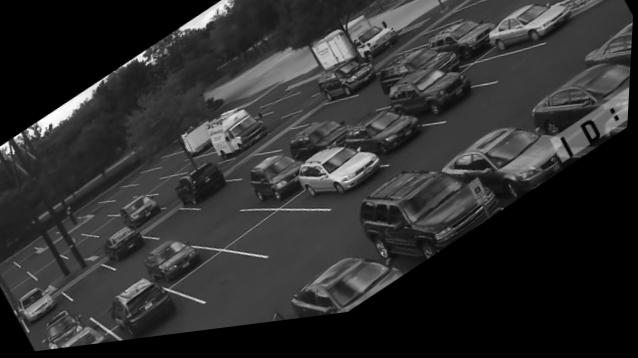empty: (238, 214, 333, 260), (175, 258, 257, 302), (463, 62, 544, 98), (194, 214, 261, 251), (63, 264, 121, 305), (300, 106, 355, 132), (93, 283, 134, 317), (259, 132, 310, 159), (149, 215, 199, 240), (434, 17, 480, 41), (229, 156, 272, 181), (458, 0, 502, 23), (400, 39, 443, 62), (32, 259, 73, 283), (64, 237, 105, 260), (7, 277, 41, 303), (253, 102, 297, 122), (351, 104, 391, 125), (53, 234, 89, 257), (4, 269, 35, 294), (152, 178, 188, 199), (28, 253, 61, 274), (80, 216, 114, 236), (179, 159, 215, 177), (92, 219, 124, 239), (135, 179, 167, 198), (14, 248, 44, 268), (105, 200, 138, 217), (0, 260, 25, 282), (160, 162, 193, 178), (160, 187, 183, 209), (78, 203, 113, 216), (151, 157, 181, 171), (107, 189, 138, 201), (130, 174, 159, 186), (92, 240, 112, 257)
occupied: (363, 182, 513, 271), (441, 142, 589, 203), (280, 263, 415, 327), (535, 79, 632, 142), (300, 155, 385, 210), (112, 281, 188, 341), (390, 78, 467, 132), (489, 17, 573, 64), (348, 120, 429, 164), (319, 60, 379, 112), (209, 115, 271, 164), (381, 57, 450, 100), (148, 244, 209, 289), (177, 167, 232, 213), (290, 127, 350, 169), (430, 32, 493, 71), (251, 162, 303, 209), (587, 34, 634, 77), (105, 230, 149, 266), (56, 324, 114, 351), (122, 198, 163, 233), (46, 313, 82, 352), (22, 289, 60, 324)
